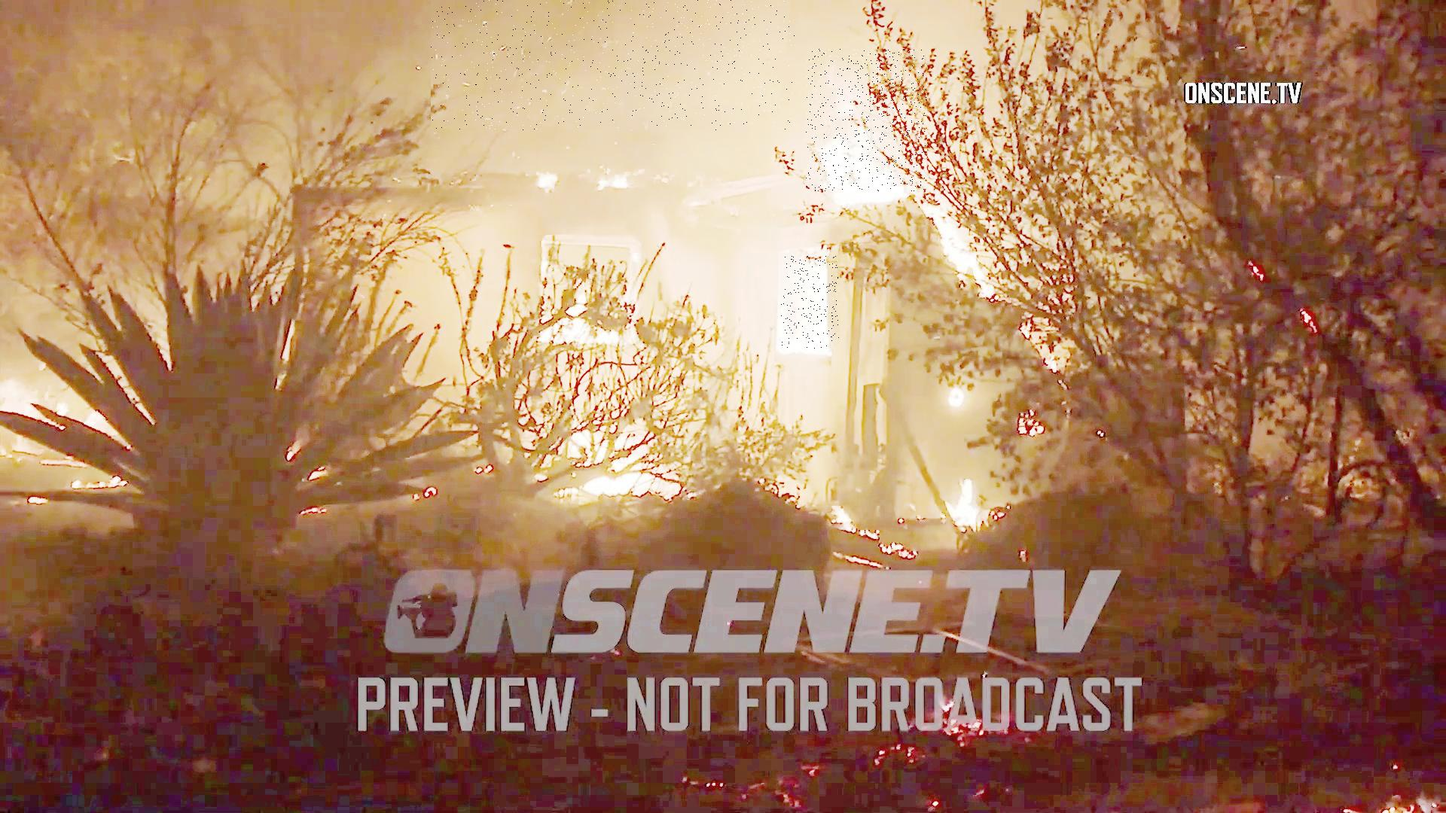fire: (806, 49, 927, 192), (782, 256, 840, 349)
smoke: (431, 0, 795, 130)
